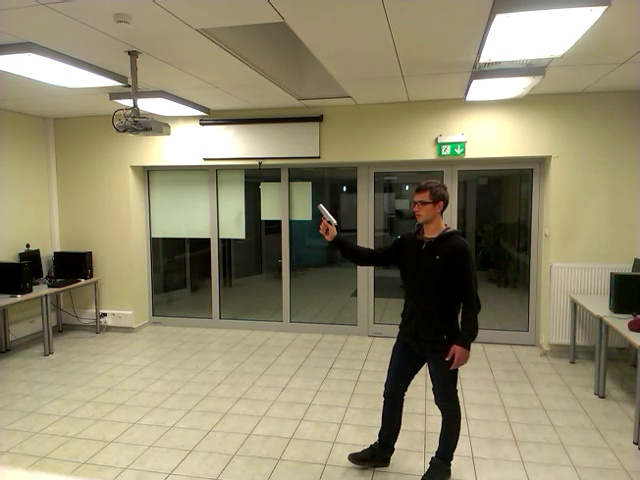gun: (314, 194, 345, 246)
